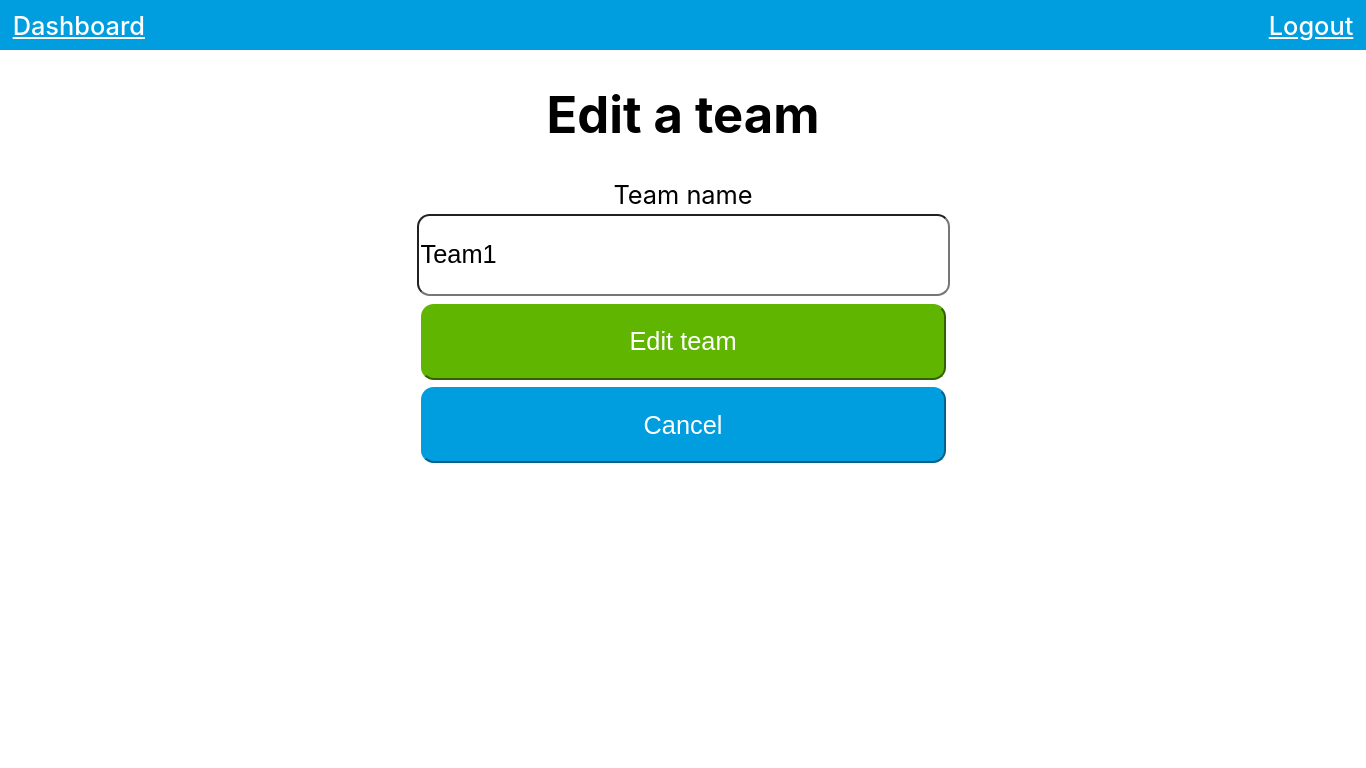
Test case: can edit a team
Expected: the heading "Edit a team" is shown, x1=333 y1=84 x2=1033 y2=145
Replace the text in the field with placeholder "Team name" with "test" at (683, 255), box x1=416 y1=214 x2=950 y2=296
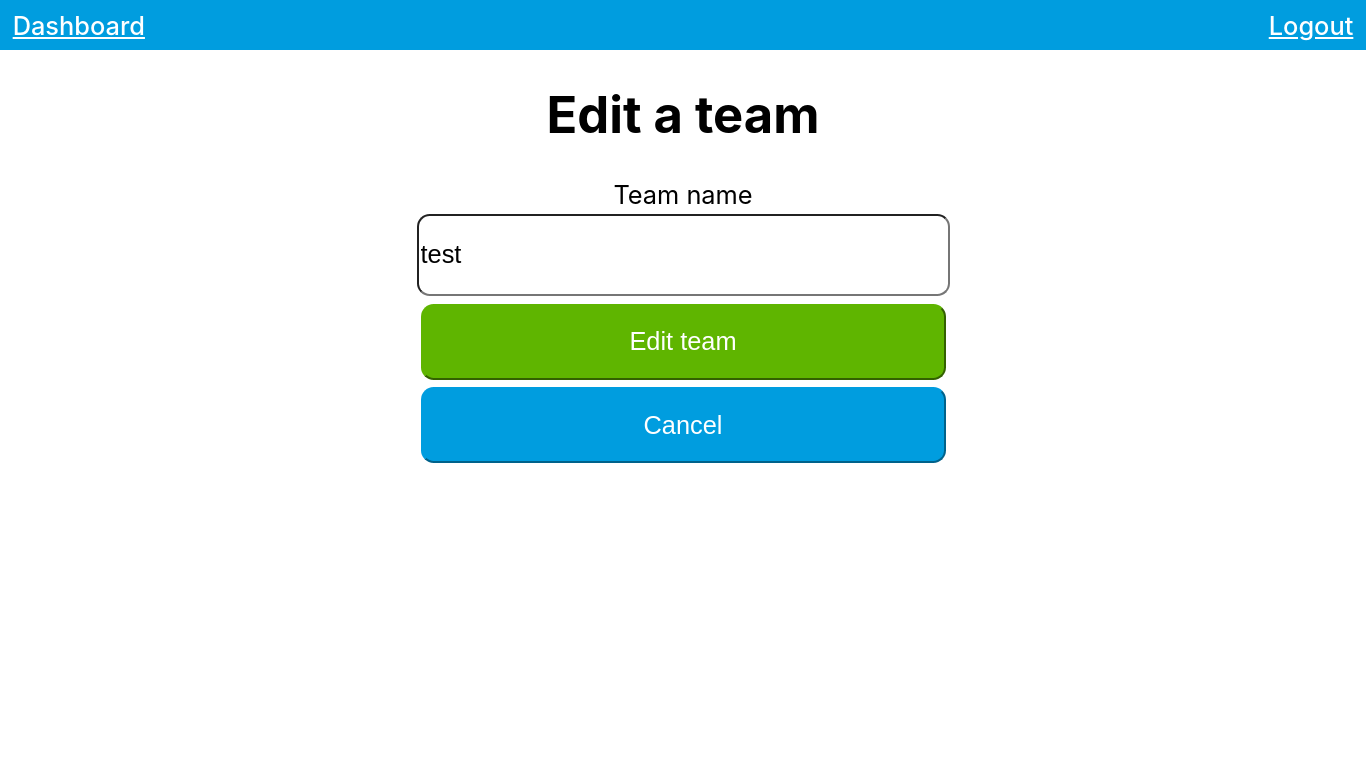
Click the button "Edit team" at (683, 342), box x1=420 y1=304 x2=946 y2=380
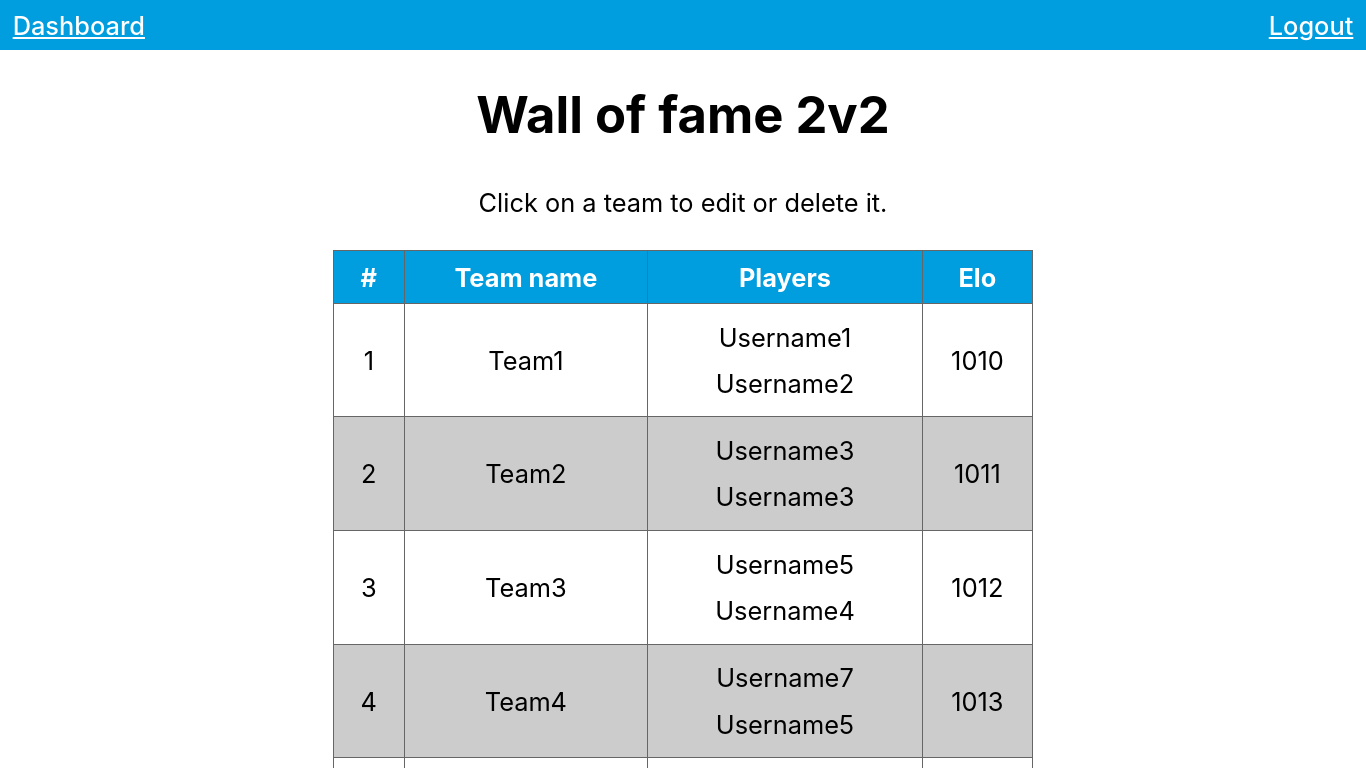
Now the heading "Wall of fame 2v2" is shown, box x1=333 y1=84 x2=1033 y2=145
